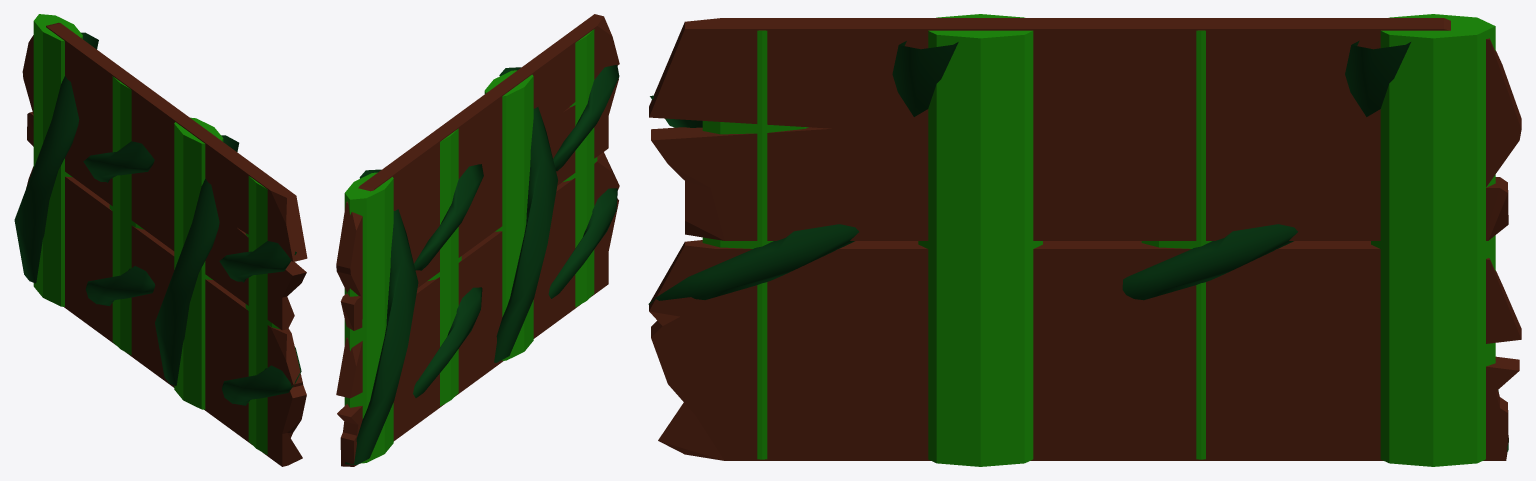
File: Leana5.fbx
The picture shows the model from 3 angles, left to right: view 1: azimuth 30°, elevation 25°; view 2: azimuth 150°, elevation 25°; view 3: azimuth 270°, elevation 25°; orthographic projection. The views are drawn at different scales.
Parts seen in each view (by area): view 1: Cube.001, Cylinder.003; view 2: Cylinder.003, Cube.001; view 3: Cube.001, Cylinder.003.
Boxes of the visible parts, box(x1,y1,x2,y2) form: Cube.001: box(22, 22, 307, 466); Cylinder.003: box(14, 14, 301, 454); Cylinder.003: box(344, 29, 619, 465); Cube.001: box(336, 14, 619, 466); Cube.001: box(649, 18, 1521, 460); Cylinder.003: box(648, 14, 1508, 466).
Bounding box in the file's own units: 92.8 × 408 × 747.
